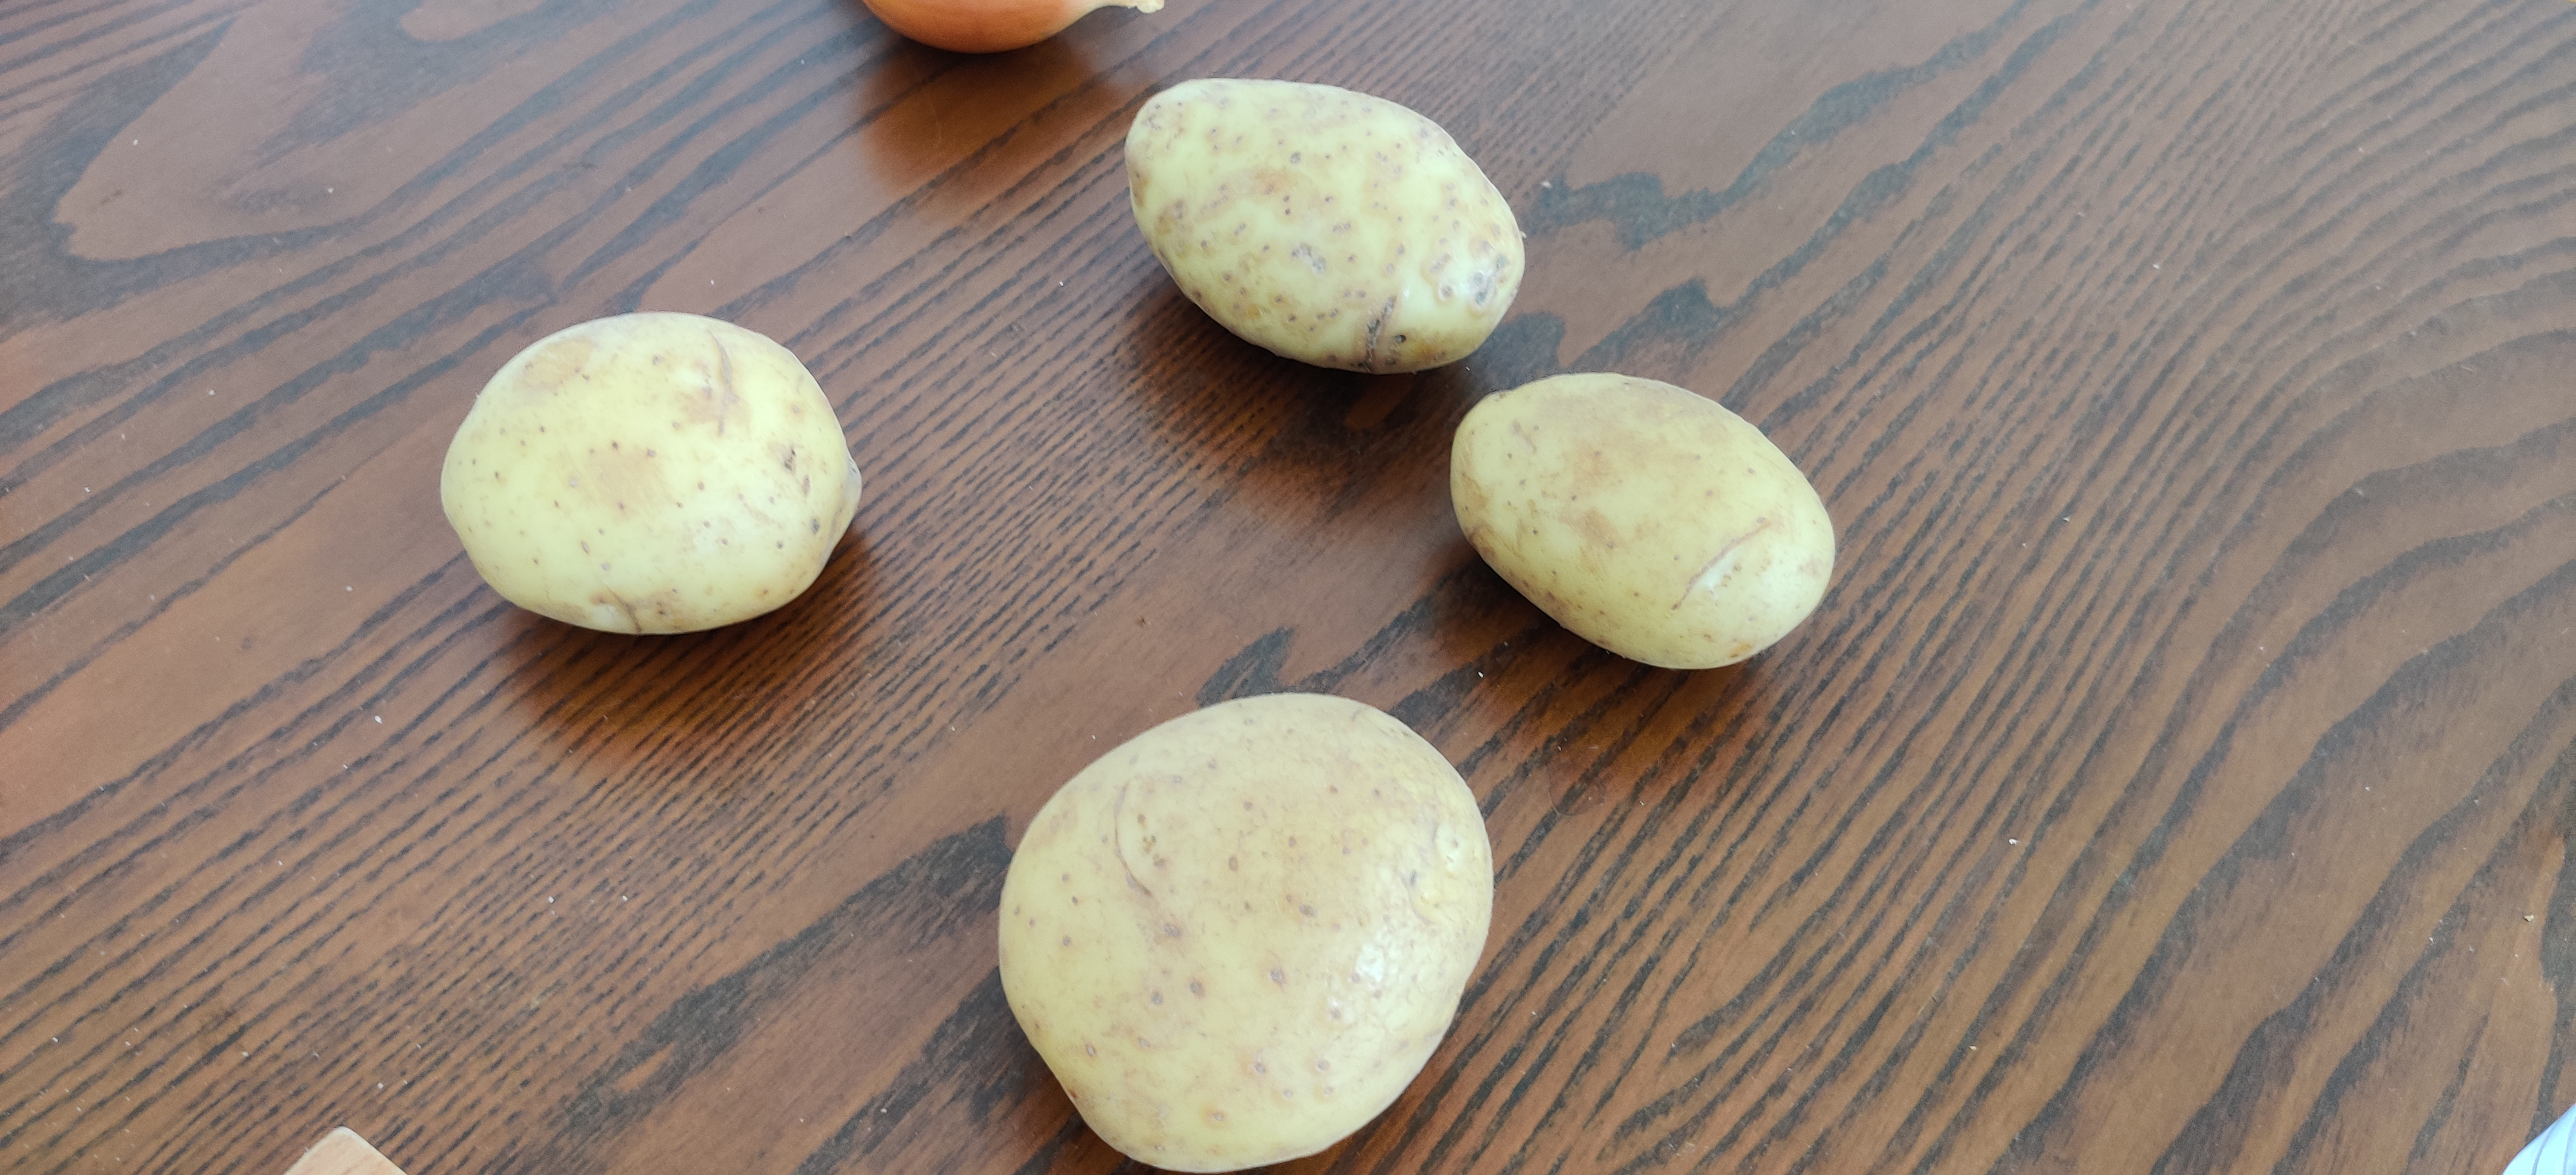Kartoffel: (999, 692, 1495, 1172), (440, 316, 864, 633), (1124, 77, 1523, 375), (1451, 373, 1835, 669)
